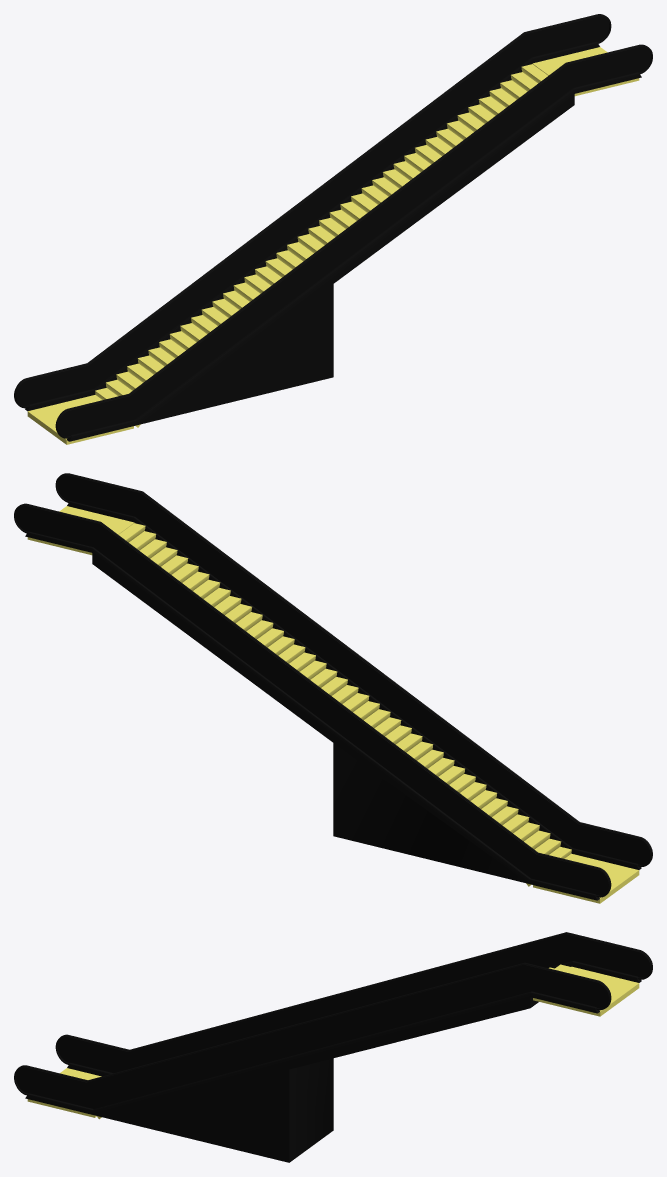
File: Escalator v4.fbx
3 renders of one model, top to bottom at view 1: azimuth 30°, elevation 25°; view 2: azimuth 150°, elevation 25°; view 3: azimuth 330°, elevation 25°, orthographic.
Visible parts, largest first — view 1: Rail_Base, Glass002, Glass001, Step096, Railing002, Railing001, Lower, Higher; view 2: Rail_Base, Glass001, Glass002, Step096, Railing002, Railing001, Lower, Higher; view 3: Rail_Base, Glass002, Glass001, Railing002, Railing001, Higher, Lower.
Boxes of the visible parts, x1,y1,x2,y2 form: Rail_Base: (25,42,641,441); Glass002: (58,47,650,436); Glass001: (17,16,609,405); Step096: (95,64,547,427); Railing002: (55,44,652,438); Railing001: (14,14,611,408); Lower: (27,395,133,444); Higher: (532,47,639,96); Rail_Base: (25,501,641,900); Glass001: (16,506,608,895); Glass002: (57,476,649,864); Step096: (119,523,571,886); Railing002: (55,473,652,866); Railing001: (14,503,611,897); Lower: (533,853,639,903); Higher: (27,506,134,555); Rail_Base: (25,961,641,1162); Glass002: (16,965,608,1108); Glass001: (58,935,649,1073); Railing002: (14,962,611,1109); Railing001: (55,932,652,1064); Higher: (533,966,639,1016); Lower: (27,1068,101,1117).
Bounding box in the file's own units: 26.41 × 11.07 × 3.4.
